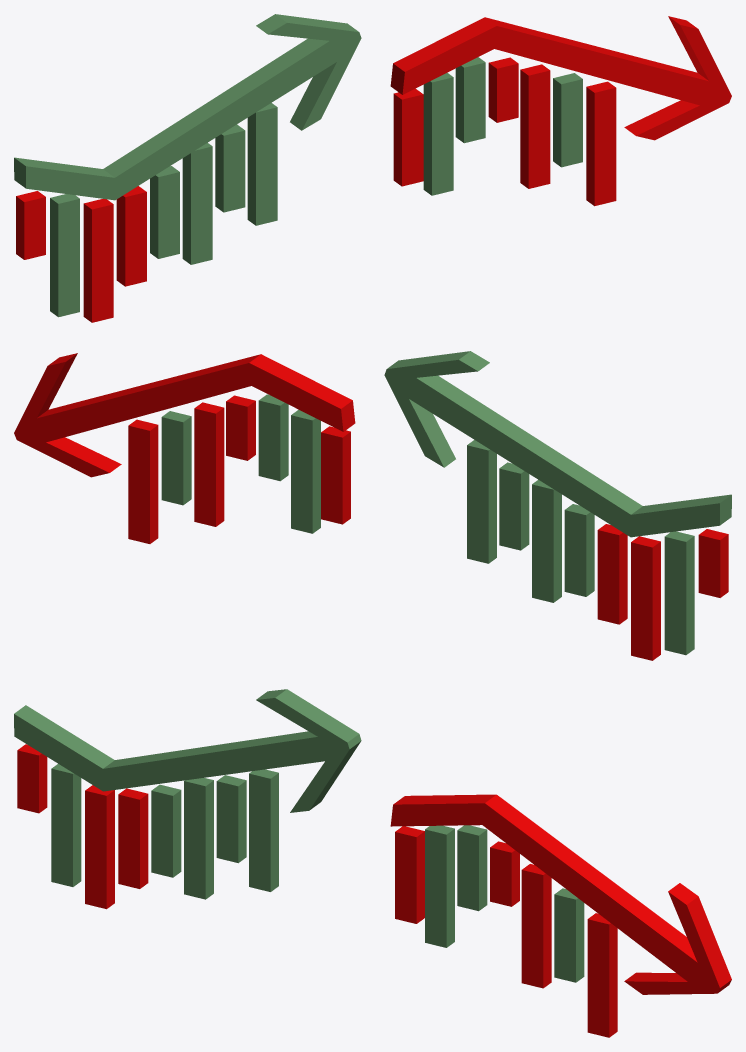
File: stock up and down.fbx
3 renders of one model, top to bottom at view 1: azimuth 30°, elevation 25°; view 2: azimuth 150°, elevation 25°; view 3: azimuth 330°, elevation 25°, orthographic.
Visible parts, largest first — view 1: polySurface1, polySurface17; view 2: polySurface1, polySurface17; view 3: polySurface1, polySurface17.
Part boxes in pixels (x1=…): polySurface1: x1=14, y1=14, x2=361, y2=322; polySurface17: x1=390, y1=16, x2=731, y2=206; polySurface1: x1=384, y1=351, x2=731, y2=660; polySurface17: x1=14, y1=353, x2=355, y2=543; polySurface1: x1=14, y1=689, x2=361, y2=909; polySurface17: x1=390, y1=794, x2=731, y2=1037.
Size of the model in its own units: 6.52 by 2.3 by 0.1904.
